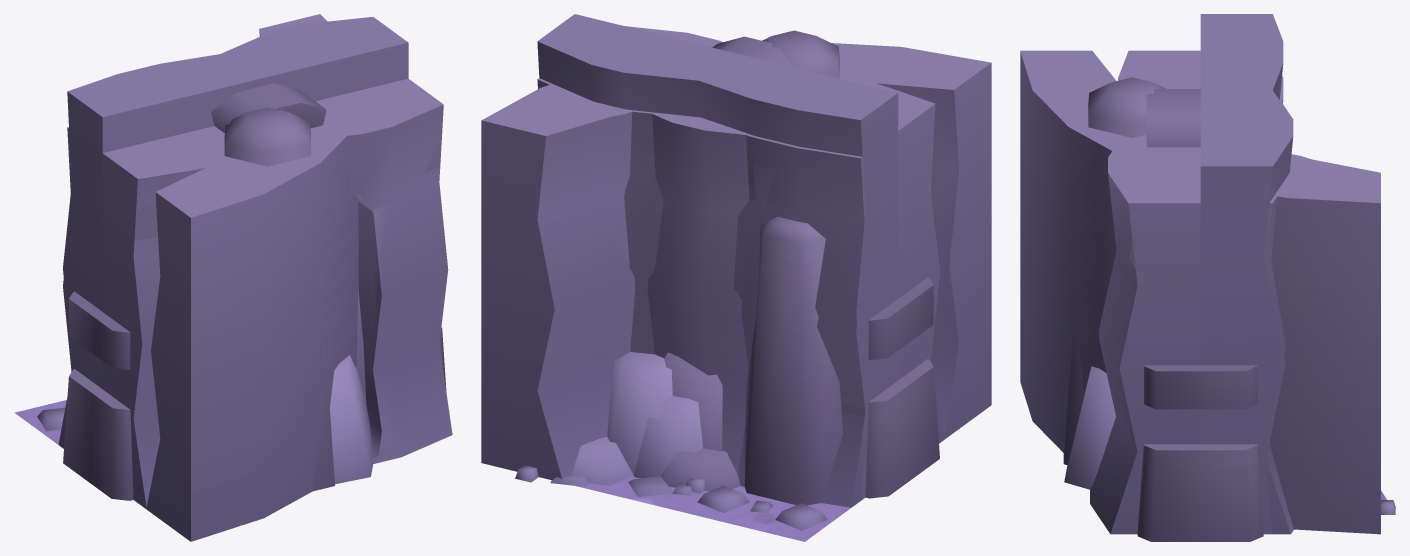
File: caves.glb
The picture shows the model from 3 angles, left to right: view 1: azimuth 30°, elevation 25°; view 2: azimuth 150°, elevation 25°; view 3: azimuth 270°, elevation 25°; orthographic projection. The views are drawn at different scales.
Parts seen in each view (by area): view 1: template-corner, gate-rock, template-wall-top, gate, template-detail, gate-overhang, template-wall; view 2: template-corner, template-wall-top, template-wall, template-wall-half, gate-rock, gate, template-detail; view 3: template-corner, template-wall-top, gate-rock, gate, template-detail, template-wall.
Boxes of the visible parts, left/top/right/bottom form: template-corner: left=14, top=14, right=367, bottom=541; gate-rock: left=58, top=78, right=452, bottom=509; template-wall-top: left=63, top=17, right=408, bottom=388; gate: left=63, top=83, right=446, bottom=500; template-detail: left=330, top=355, right=373, bottom=484; gate-overhang: left=134, top=120, right=441, bottom=240; template-wall: left=37, top=127, right=70, bottom=448; template-corner: left=481, top=30, right=991, bottom=541; template-wall-top: left=537, top=14, right=898, bottom=500; template-wall: left=515, top=78, right=864, bottom=530; template-wall-half: left=633, top=113, right=751, bottom=513; gate-rock: left=537, top=26, right=944, bottom=507; gate: left=712, top=36, right=939, bottom=498; template-detail: left=664, top=352, right=722, bottom=451; template-corner: left=1020, top=50, right=1380, bottom=534; template-wall-top: left=1200, top=14, right=1293, bottom=534; gate-rock: left=1090, top=50, right=1293, bottom=534; gate: left=1137, top=89, right=1263, bottom=541; template-detail: left=1064, top=366, right=1115, bottom=489; template-wall: left=1264, top=77, right=1395, bottom=534.
Bounding box in the file's own units: 4.4 × 4.55 × 4.16.
13 materials, 1 textured.
